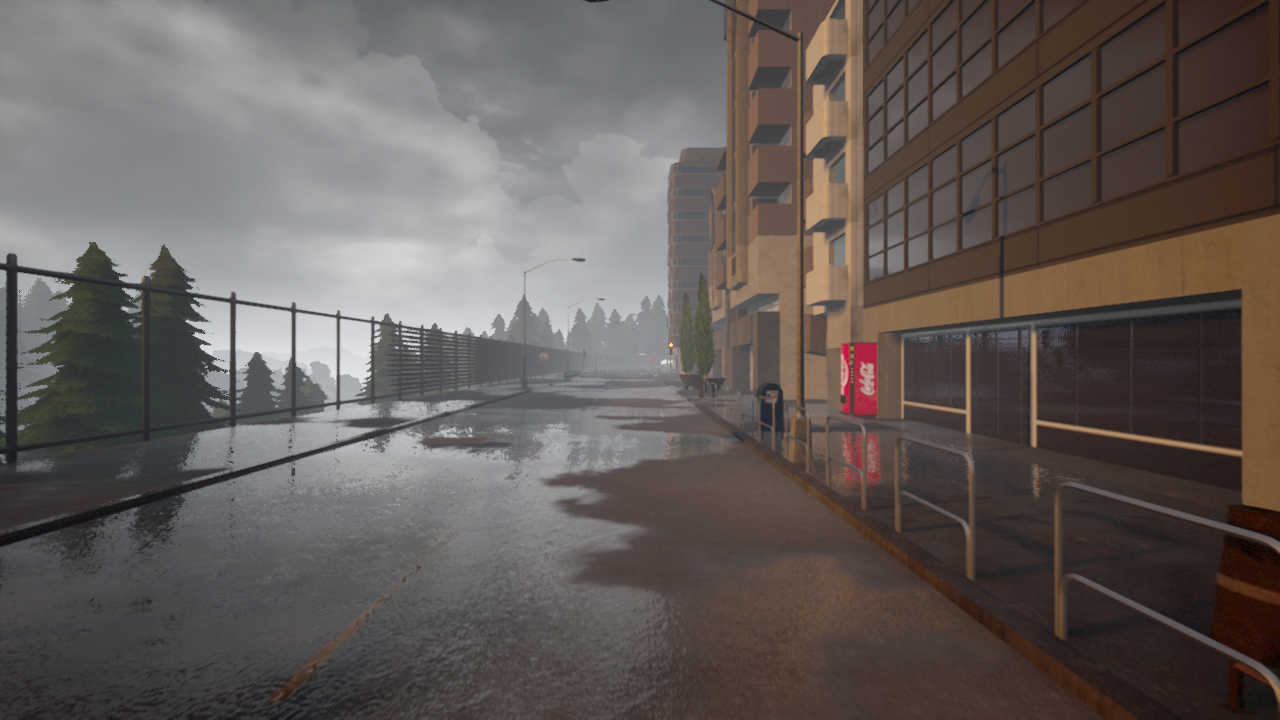red: (668, 341, 674, 355)
